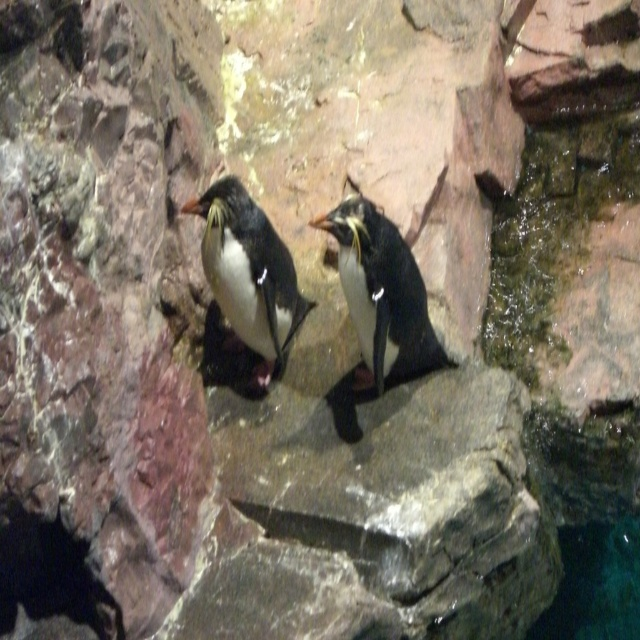Penguin: (315, 179, 472, 430), (179, 166, 313, 391)
